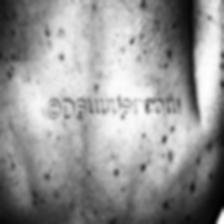Non-Cancerous Skin Condition: (0, 0, 184, 92), (105, 124, 219, 224), (1, 138, 82, 216)
